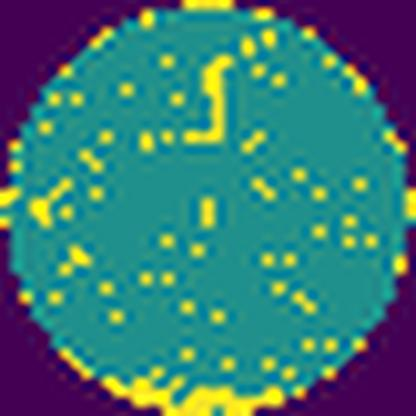Edge-Loc: (100, 364, 293, 415)
